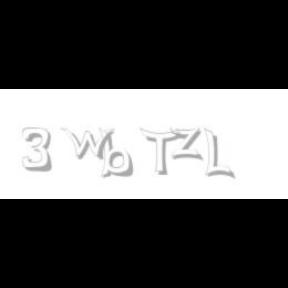3: (22, 128, 54, 172)
L: (204, 128, 232, 180)
T: (140, 128, 180, 176)
b: (98, 128, 136, 178)
w: (60, 128, 120, 160)
z: (169, 128, 205, 160)
